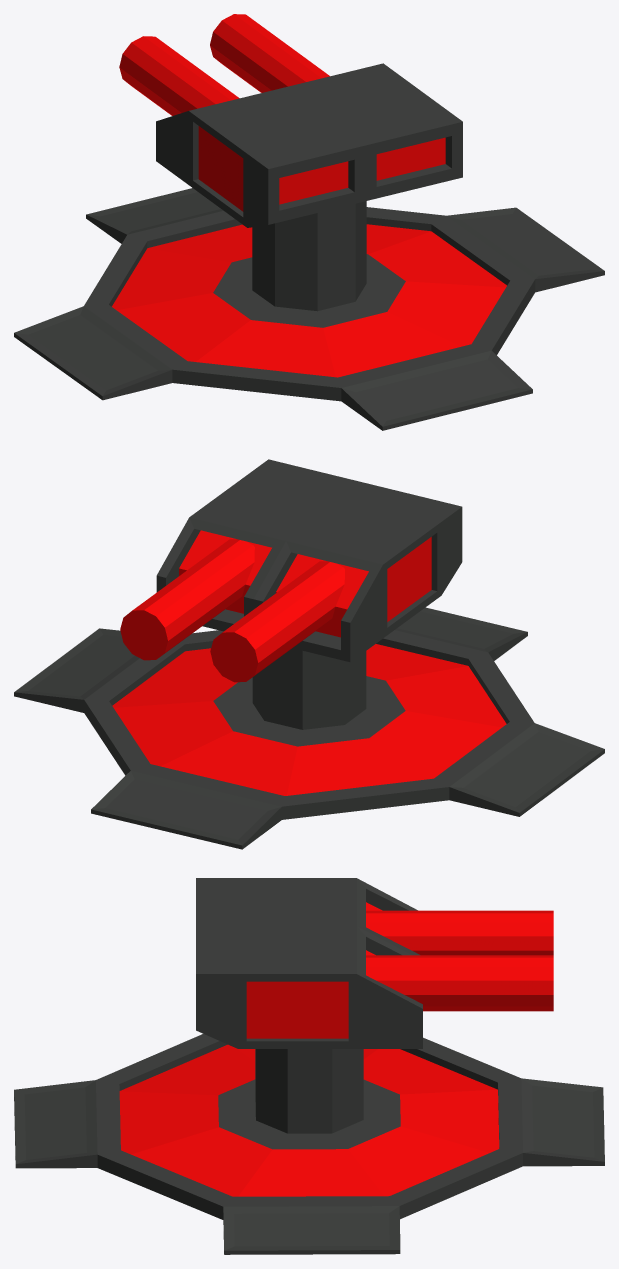
The model's file is Turret001.glb.
3 views of the same model, one above another, from view 1: azimuth 30°, elevation 25°; view 2: azimuth 150°, elevation 25°; view 3: azimuth 270°, elevation 25° (orthographic).
Visible parts, largest first — view 1: Base, Body, Muzzle; view 2: Base, Body, Muzzle; view 3: Base, Body, Muzzle.
Boxes of the visible parts, bbox=[...] form: Base: bbox=[14, 188, 604, 430]; Body: bbox=[156, 63, 462, 227]; Muzzle: bbox=[119, 14, 329, 115]; Base: bbox=[14, 607, 604, 849]; Body: bbox=[156, 459, 462, 662]; Muzzle: bbox=[120, 539, 344, 682]; Base: bbox=[14, 1034, 604, 1254]; Body: bbox=[196, 878, 422, 1048]; Muzzle: bbox=[366, 910, 553, 1011].
Size of the model in its own units: 5.2 by 1.98 by 5.2.
Materials: 3 (3 with a texture image).
